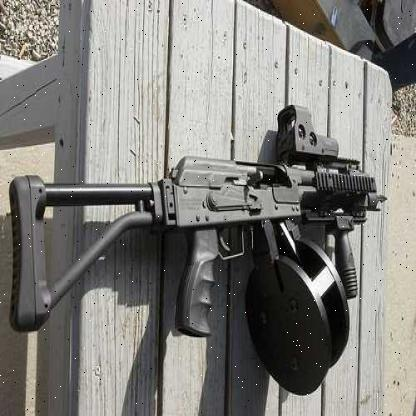rifle: (10, 89, 382, 341)
